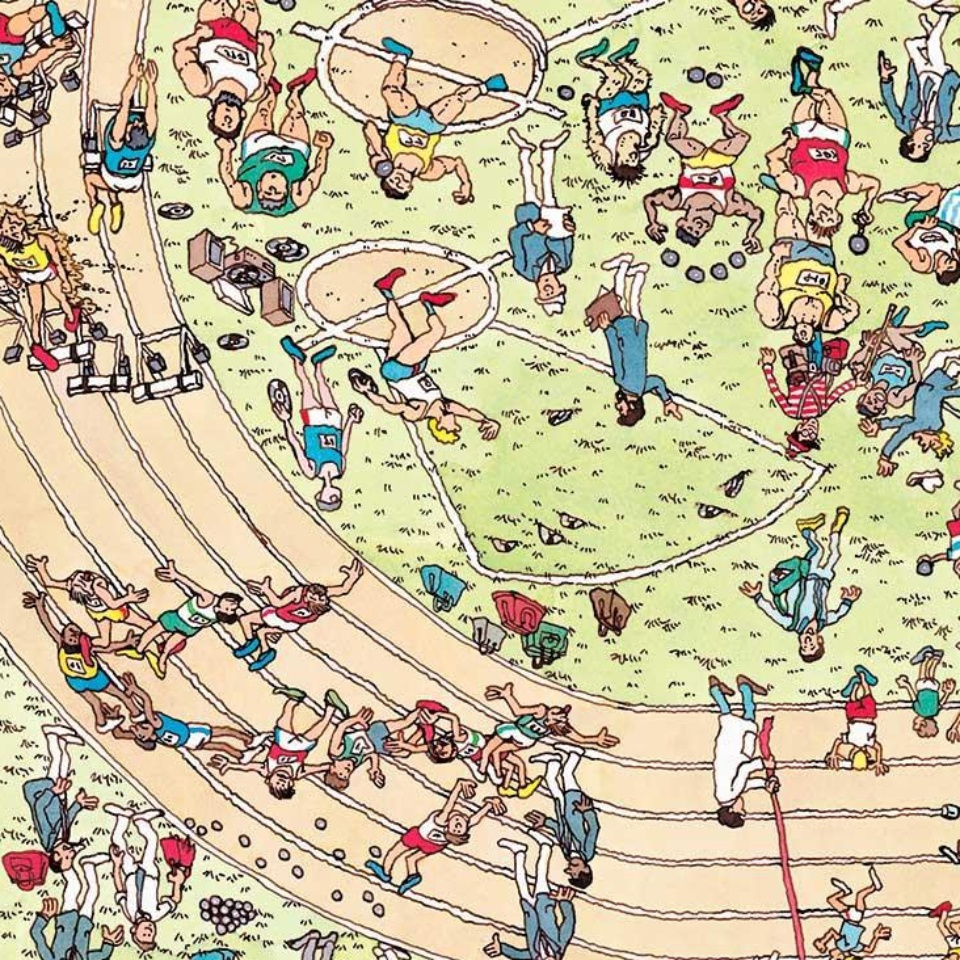waldo: (760, 339, 865, 460)
